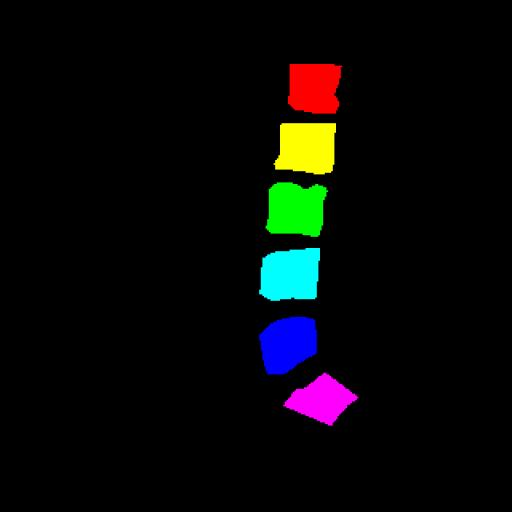L1: (288, 64, 342, 114)
L2: (275, 123, 336, 174)
L3: (266, 182, 327, 237)
L4: (259, 248, 320, 301)
L5: (259, 317, 317, 374)
S1: (284, 373, 358, 426)
